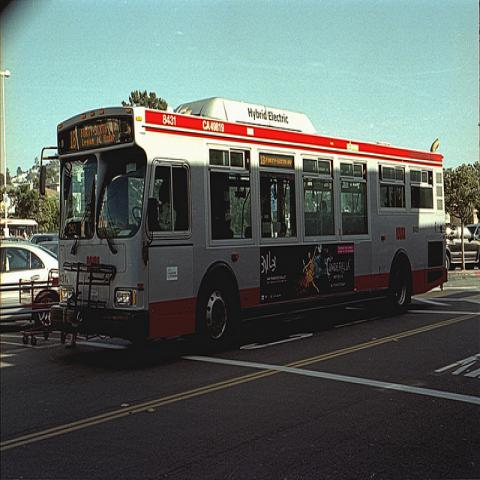bus: (57, 107, 453, 347)
car: (1, 242, 60, 327), (446, 222, 480, 271), (28, 233, 58, 243), (466, 223, 479, 241)
